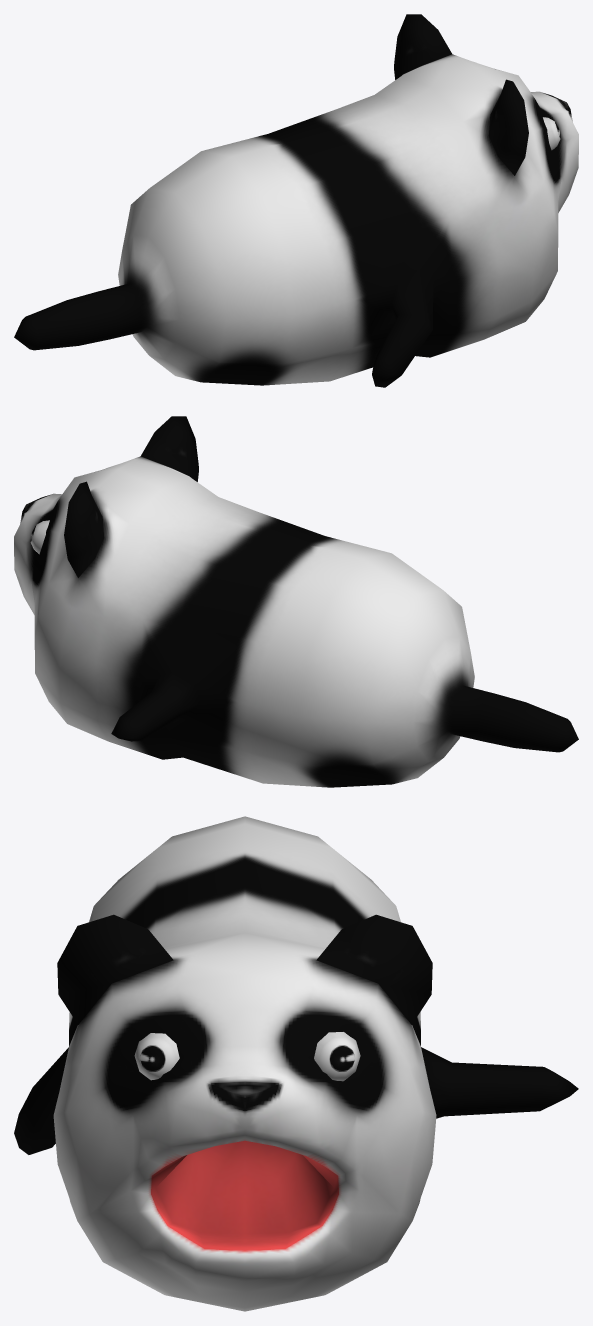
The model's file is sn_shp009.fbx.
3 views of the same model, one above another, from view 1: azimuth 30°, elevation 25°; view 2: azimuth 150°, elevation 25°; view 3: azimuth 270°, elevation 25° (orthographic). The views are drawn at different scales.
Parts seen in each view (by area): view 1: sn_shp009; view 2: sn_shp009; view 3: sn_shp009.
Boxes of the visible parts, left/top/right/bottom form: sn_shp009: left=14, top=14, right=578, bottom=387; sn_shp009: left=14, top=416, right=578, bottom=787; sn_shp009: left=14, top=816, right=578, bottom=1311.
Size of the model in its own units: 1.08 by 0.5299 by 0.6681.
